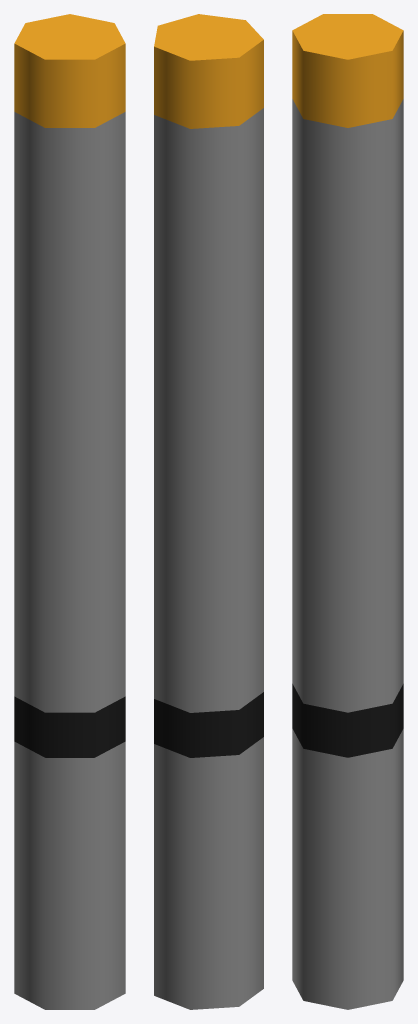
Rendered from Cigarette.FBX.
3 renders of one model, left to right at view 1: azimuth 90°, elevation 25°; view 2: azimuth 150°, elevation 25°; view 3: azimuth 270°, elevation 25°, orthographic.
Parts seen in each view (by area): view 1: Cigarette; view 2: Cigarette; view 3: Cigarette.
Boxes of the visible parts, x1=… form: Cigarette: x1=14, y1=14, x2=125, y2=1009; Cigarette: x1=154, y1=14, x2=263, y2=1009; Cigarette: x1=292, y1=14, x2=403, y2=1009.
Size of the model in its own units: 1.37 by 13.27 by 1.41.
